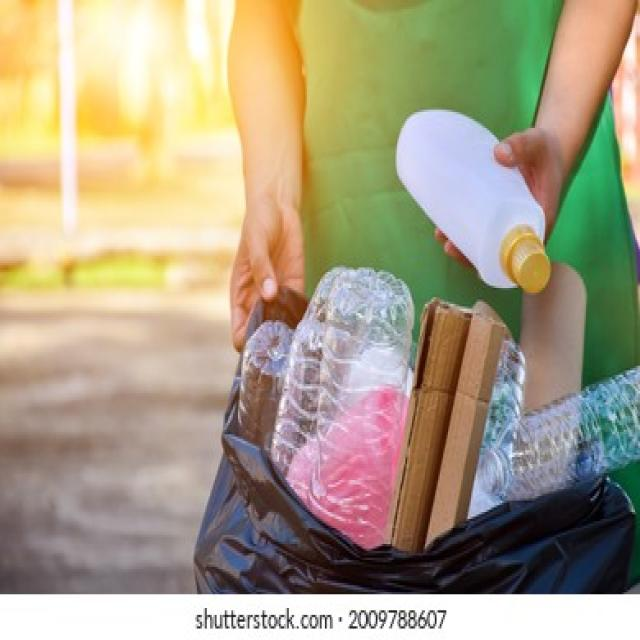cardboard: (388, 293, 498, 546)
plastic: (200, 254, 386, 528), (391, 112, 553, 283)
trash: (149, 213, 627, 592)
